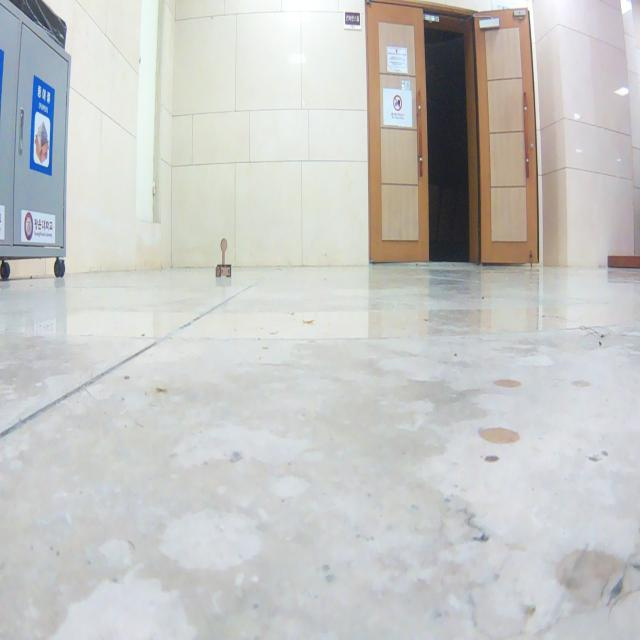target: (216, 237, 232, 278)
